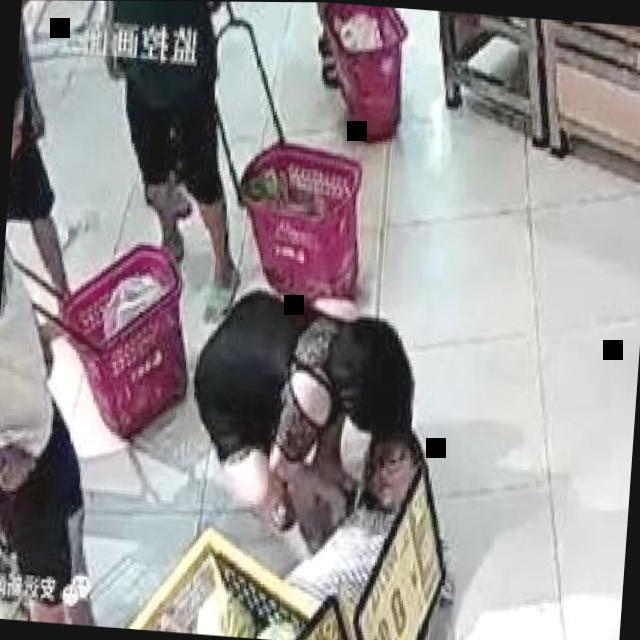Fall-Detected: (142, 386, 472, 640)
